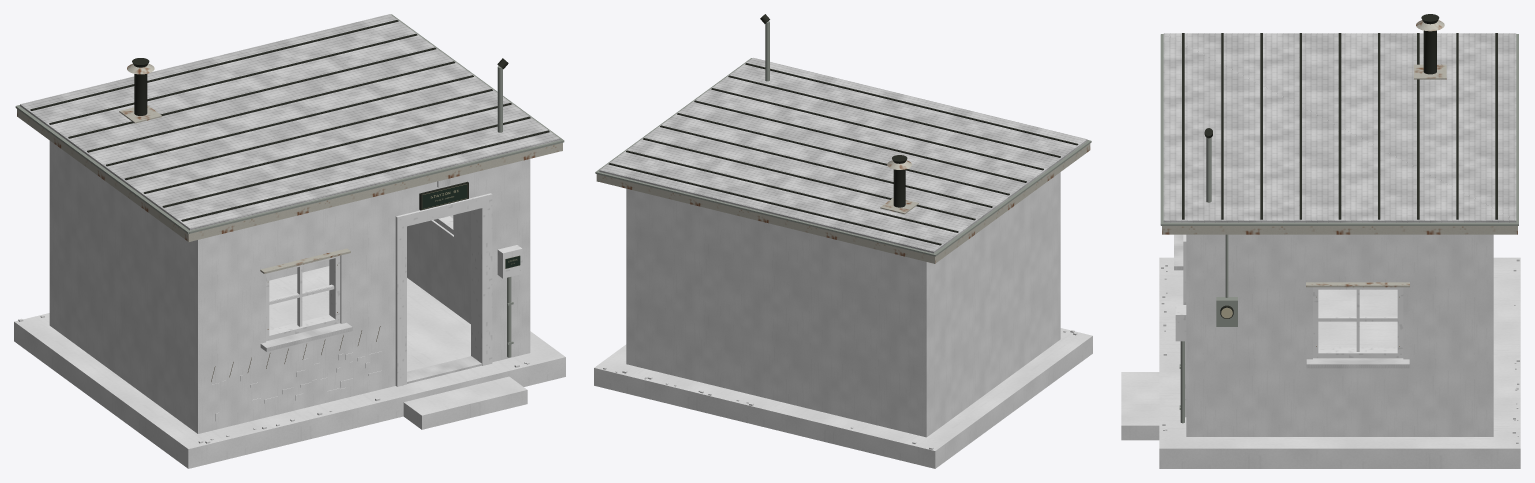
File: SM_FieldStation_Hut_Shell.glb
The picture shows the model from 3 angles, left to right: view 1: azimuth 30°, elevation 25°; view 2: azimuth 150°, elevation 25°; view 3: azimuth 270°, elevation 25°; orthographic projection. The views are drawn at different scales.
Visible parts, largest first — view 1: SM_FieldStation_Hut_Shell; view 2: SM_FieldStation_Hut_Shell; view 3: SM_FieldStation_Hut_Shell.
Part boxes in pixels (left/top/right/bottom): SM_FieldStation_Hut_Shell: left=14, top=14, right=565, bottom=468; SM_FieldStation_Hut_Shell: left=594, top=14, right=1092, bottom=468; SM_FieldStation_Hut_Shell: left=1121, top=14, right=1520, bottom=468.
Bounding box in the file's own units: 5 × 3.92 × 4.42.
Materials: 15 (11 with a texture image).
